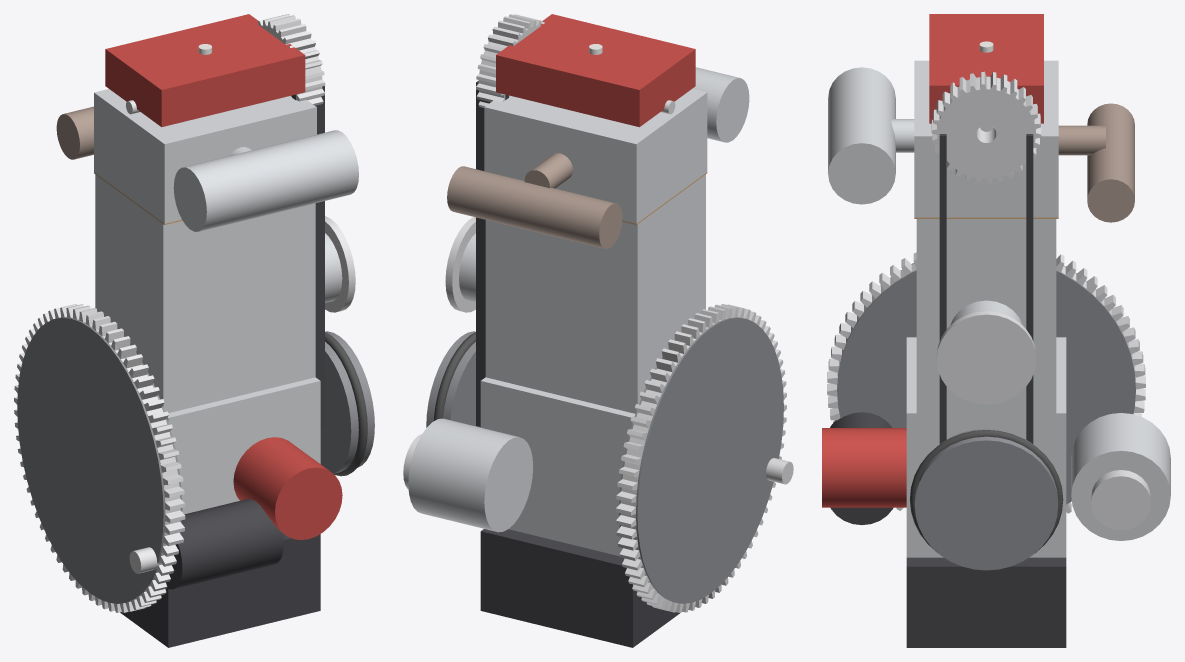
The model's file is combustion_1_linea_90p0_8p6_8p6_sohc_2_no_correa_nafta.glb.
3 views of the same model, side by side, from view 1: azimuth 30°, elevation 25°; view 2: azimuth 150°, elevation 25°; view 3: azimuth 270°, elevation 25° (orthographic). The views are drawn at different scales.
Parts seen in each view (by area): view 1: bloque, volante_inercia, tapa_valvulas_0, culata_0, multiple_admision_0, carter, motor_arranque, filtro_aceite, polea_ciguenal, bomba_agua, distribucion_correa, distribucion_poleas (+1 smaller); view 2: bloque, volante_inercia, culata_0, tapa_valvulas_0, carter, alternador, multiple_escape_0, polea_ciguenal, multiple_admision_0, distribucion_correa, bomba_agua, distribucion_poleas (+1 smaller); view 3: bloque, volante_inercia, polea_ciguenal, carter, alternador, culata_0, multiple_admision_0, distribucion_poleas, tapa_valvulas_0, bomba_agua, filtro_aceite, multiple_escape_0 (+2 smaller).
Part boxes in pixels (x1=…): bloque: x1=95, y1=174, x2=320, y2=514; volante_inercia: x1=14, y1=304, x2=185, y2=612; tapa_valvulas_0: x1=105, y1=14, x2=305, y2=127; culata_0: x1=94, y1=89, x2=316, y2=223; multiple_admision_0: x1=173, y1=130, x2=358, y2=231; carter: x1=120, y1=533, x2=320, y2=647; motor_arranque: x1=129, y1=499, x2=283, y2=589; filtro_aceite: x1=233, y1=437, x2=342, y2=539; polea_ciguenal: x1=320, y1=331, x2=374, y2=476; bomba_agua: x1=325, y1=216, x2=355, y2=312; distribucion_correa: x1=292, y1=86, x2=324, y2=426; distribucion_poleas: x1=258, y1=14, x2=325, y2=105; bloque: x1=480, y1=174, x2=705, y2=556; volante_inercia: x1=615, y1=304, x2=786, y2=612; culata_0: x1=484, y1=89, x2=707, y2=223; tapa_valvulas_0: x1=496, y1=14, x2=695, y2=127; carter: x1=480, y1=529, x2=679, y2=647; alternador: x1=403, y1=418, x2=533, y2=532; multiple_escape_0: x1=447, y1=153, x2=622, y2=248; polea_ciguenal: x1=426, y1=331, x2=480, y2=427; multiple_admision_0: x1=692, y1=67, x2=749, y2=142; distribucion_correa: x1=476, y1=81, x2=508, y2=426; bomba_agua: x1=445, y1=217, x2=475, y2=312; distribucion_poleas: x1=476, y1=14, x2=544, y2=107; bloque: x1=906, y1=219, x2=1066, y2=557; volante_inercia: x1=827, y1=252, x2=1145, y2=513; polea_ciguenal: x1=909, y1=428, x2=1063, y2=570; carter: x1=906, y1=557, x2=1066, y2=647; alternador: x1=1071, y1=413, x2=1170, y2=540; culata_0: x1=914, y1=60, x2=1058, y2=217; multiple_admision_0: x1=828, y1=67, x2=914, y2=204; distribucion_poleas: x1=931, y1=71, x2=1041, y2=183; tapa_valvulas_0: x1=929, y1=14, x2=1043, y2=123; bomba_agua: x1=936, y1=300, x2=1036, y2=404; filtro_aceite: x1=822, y1=428, x2=906, y2=507; multiple_escape_0: x1=1058, y1=103, x2=1134, y2=222.
Bounding box in the file's own units: 27 × 54.47 × 30.1.
